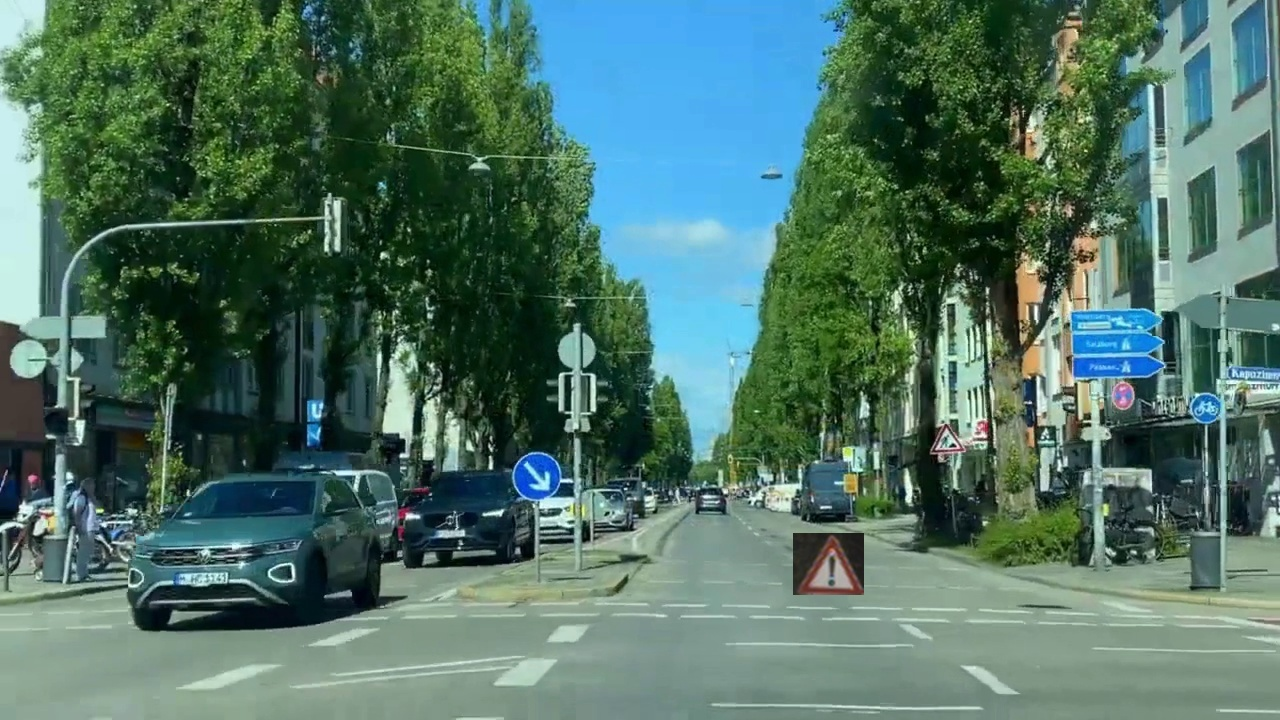Caution: (793, 533, 864, 595)
